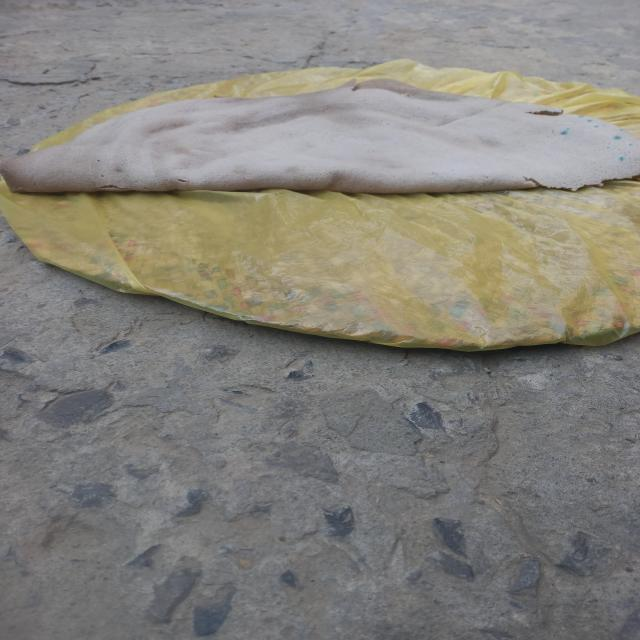injera_mold: (70, 145, 84, 149), (560, 130, 568, 136), (384, 121, 392, 126), (612, 136, 622, 140), (618, 156, 626, 161), (592, 125, 600, 128), (578, 115, 584, 118), (605, 146, 610, 149), (587, 120, 593, 122), (404, 93, 408, 96), (628, 144, 633, 146), (401, 93, 404, 96), (566, 128, 570, 130), (619, 129, 623, 131), (59, 148, 62, 150)
